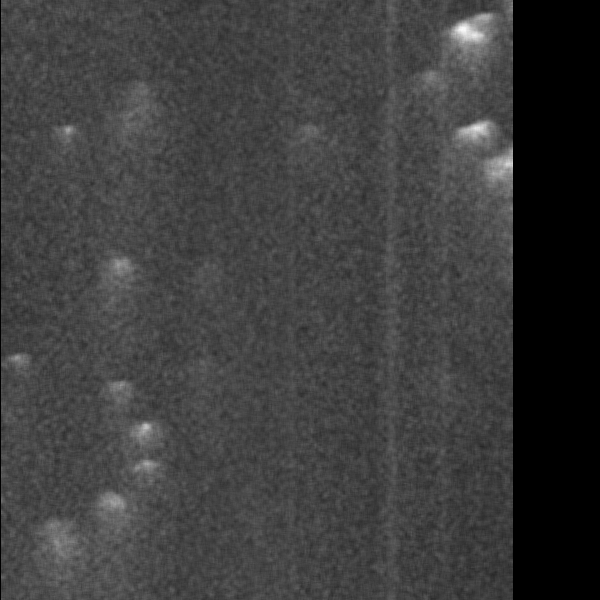spark: (7, 209, 82, 289), (187, 216, 248, 293), (180, 351, 267, 384), (187, 21, 223, 45), (430, 558, 469, 580), (181, 569, 205, 599)
